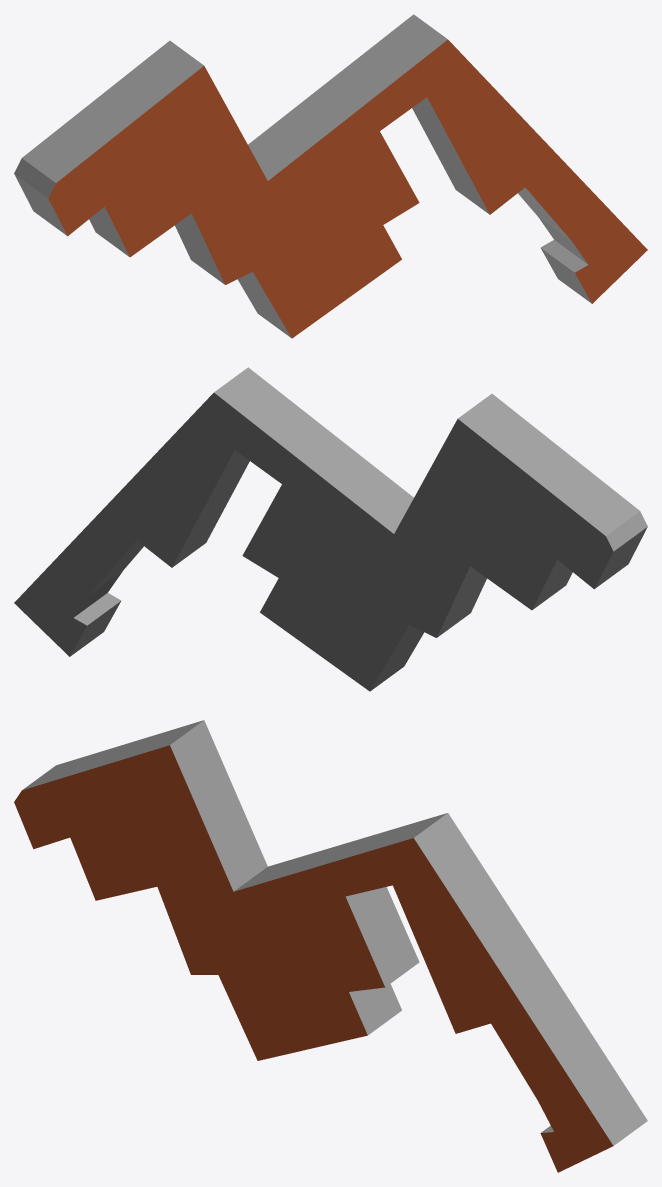
File: construction_7079_assumed_A_Casa_h6m.obj
3 renders of one model, top to bottom at view 1: azimuth 30°, elevation 25°; view 2: azimuth 150°, elevation 25°; view 3: azimuth 330°, elevation 25°, orthographic.
Parts seen in each view (by area): view 1: construction_7079_assumed_A_Casa; view 2: construction_7079_assumed_A_Casa; view 3: construction_7079_assumed_A_Casa.
Part boxes in pixels (x1,y1,x2,y2): construction_7079_assumed_A_Casa: [14, 14, 647, 338]; construction_7079_assumed_A_Casa: [14, 367, 647, 691]; construction_7079_assumed_A_Casa: [14, 720, 647, 1172].
Size of the model in its own units: 60.45 by 32.09 by 6.
